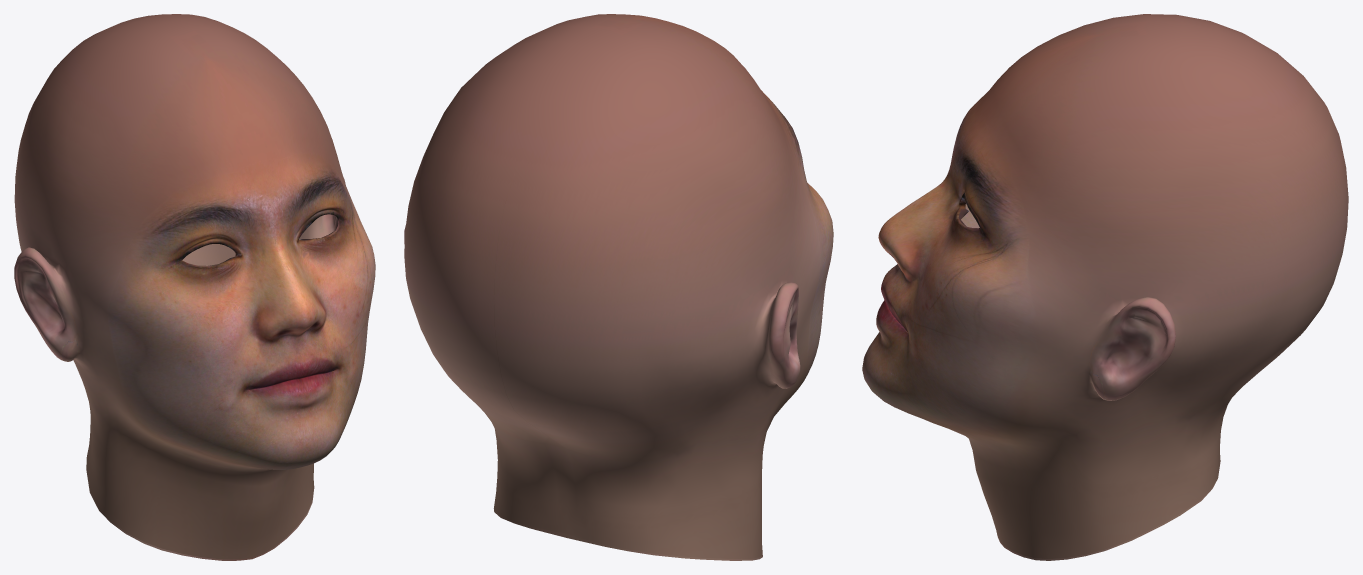
The picture shows the model from 3 angles, left to right: view 1: azimuth 30°, elevation 25°; view 2: azimuth 150°, elevation 25°; view 3: azimuth 270°, elevation 25°; orthographic projection. The views are drawn at different scales.
Parts seen in each view (by area): view 1: FaceGen; view 2: FaceGen; view 3: FaceGen.
Boxes of the visible parts, left/top/right/bottom form: FaceGen: left=14, top=14, right=375, bottom=560; FaceGen: left=404, top=14, right=833, bottom=560; FaceGen: left=862, top=14, right=1348, bottom=560.
Size of the model in its own units: 200 by 282 by 244.
1 material, 1 textured.
